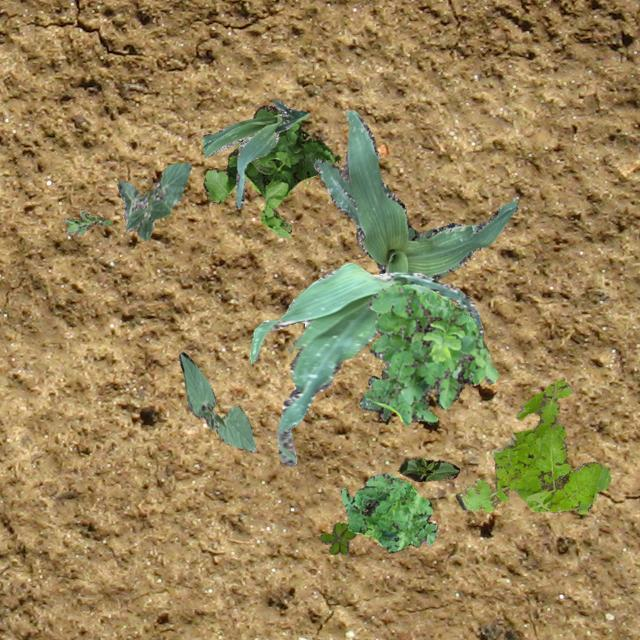crop: (248, 262, 482, 466), (312, 108, 518, 280), (202, 99, 308, 208), (178, 352, 255, 451), (118, 162, 190, 240), (398, 456, 458, 480)
weed: (454, 378, 610, 514), (363, 282, 498, 424), (202, 105, 338, 236), (339, 472, 436, 552), (358, 368, 391, 419), (62, 208, 110, 234), (320, 520, 356, 554)
